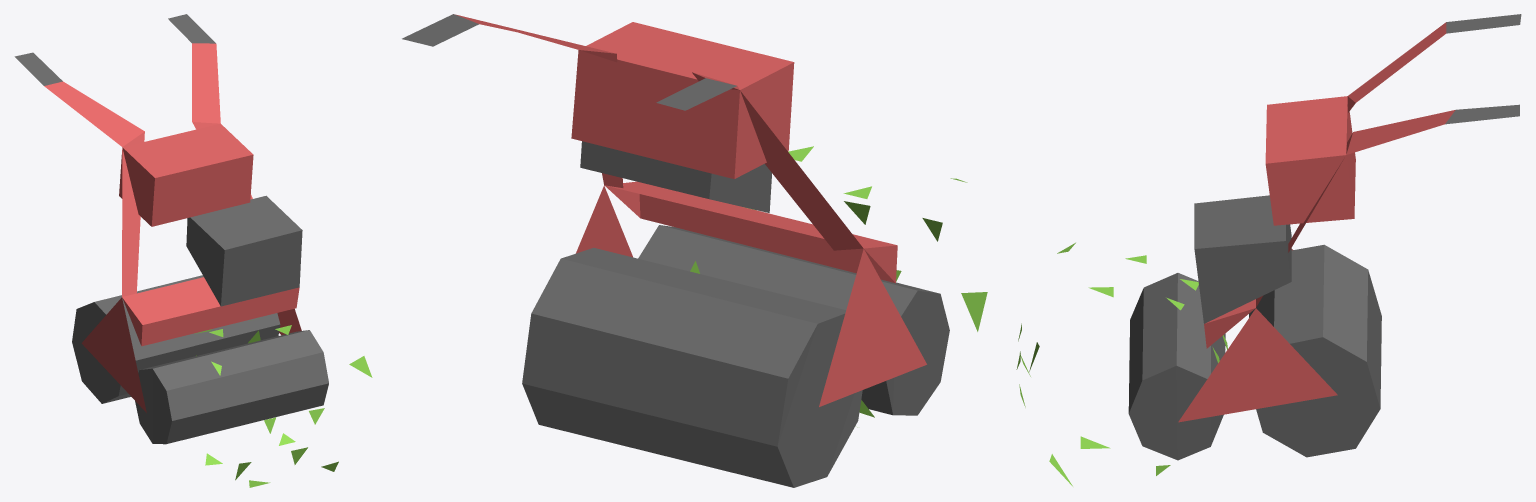
Rendered from SUB_LAWN_MOWER.obj.
The picture shows the model from 3 angles, left to right: view 1: azimuth 30°, elevation 25°; view 2: azimuth 150°, elevation 25°; view 3: azimuth 270°, elevation 25°; orthographic projection. The views are drawn at different scales.
Visible parts, largest first — view 1: SUB_LAWN_MOWER; view 2: SUB_LAWN_MOWER; view 3: SUB_LAWN_MOWER.
Part boxes in pixels (left/top/right/bottom): SUB_LAWN_MOWER: left=14, top=14, right=372, bottom=487; SUB_LAWN_MOWER: left=402, top=14, right=987, bottom=487; SUB_LAWN_MOWER: left=1016, top=14, right=1521, bottom=486.
Size of the model in its own units: 3.49 by 5.96 by 6.92.
1 material, 1 textured.
